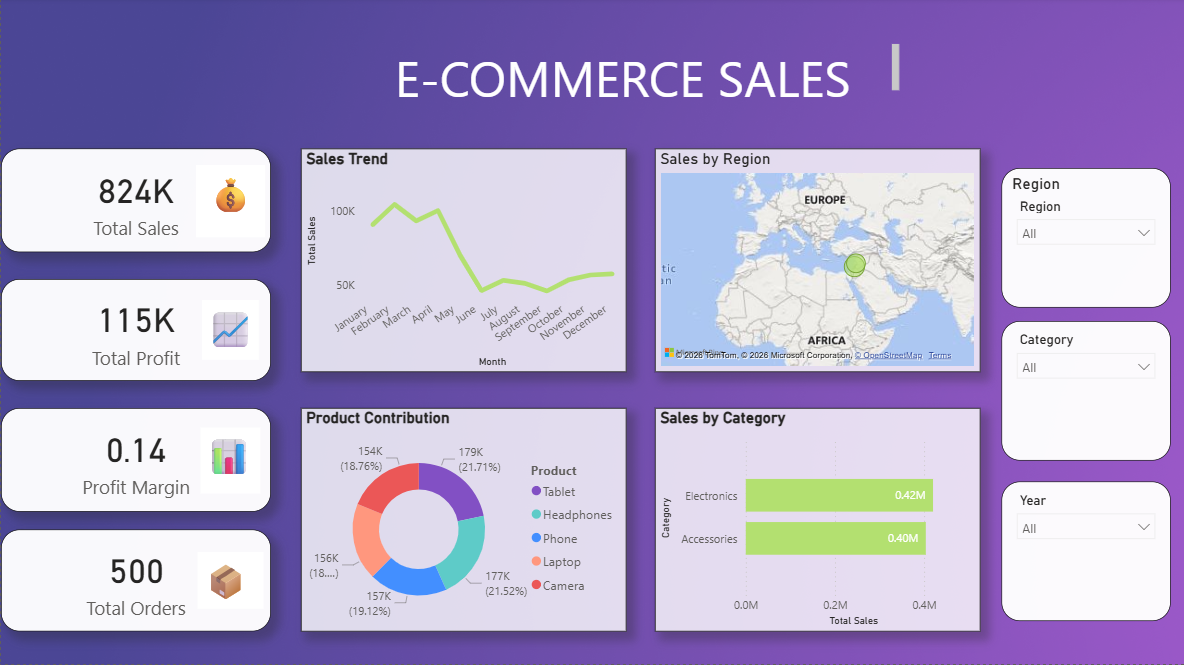

What the dashboard file says about the page in this screenshot:
{"tool":"powerbi","page":{"name":"Page 1","canvas":[1280,720],"ordinal":0},"visuals":[{"type":"card","fields":{"Values":["ecommerce_sales_dataset_v2.Profit Margin"]},"box":[0,443.7,291.5,111.7],"z":0},{"type":"card","fields":{"Values":["ecommerce_sales_dataset_v2.Total Orders"]},"box":[0,574.8,291.5,110.1],"z":1000},{"type":"card","fields":{"Values":["ecommerce_sales_dataset_v2.Total Profit"]},"box":[0,304.4,291.5,110.1],"z":2000},{"type":"card","fields":{"Values":["ecommerce_sales_dataset_v2.Total Sales"]},"box":[0,163.5,291.5,111.7],"z":3000},{"type":"lineChart","title":"Sales Trend","fields":{"Category":["ecommerce_sales_dataset_v2.Order Date.Variation.Date Hierarchy.Year","ecommerce_sales_dataset_v2.Order Date.Variation.Date Hierarchy.Quarter","ecommerce_sales_dataset_v2.Order Date.Variation.Date Hierarchy.Month","ecommerce_sales_dataset_v2.Order Date.Variation.Date Hierarchy.Day"],"Y":["ecommerce_sales_dataset_v2.Total Sales"]},"box":[323.8,163.5,351.4,241.3],"z":4000},{"type":"map","title":"Sales by Region","fields":{"Category":["ecommerce_sales_dataset_v2.Region"],"Size":["ecommerce_sales_dataset_v2.Total Sales"]},"box":[706,163.5,351.4,241.3],"z":5000},{"type":"clusteredBarChart","title":"Sales by Category","fields":{"Category":["ecommerce_sales_dataset_v2.Category"],"Y":["ecommerce_sales_dataset_v2.Total Sales"]},"box":[706,443.7,351.4,241.3],"z":6000},{"type":"donutChart","title":"Product Contribution","fields":{"Category":["ecommerce_sales_dataset_v2.Product"],"Y":["ecommerce_sales_dataset_v2.Total Sales"]},"box":[323.8,443.7,351.4,241.3],"z":7000},{"type":"textbox","box":[375.7,45.3,599.1,69.6],"z":8000},{"type":"textbox","box":[210.5,181.4,74.5,77.7],"z":9000},{"type":"textbox","box":[217,327.1,61.5,64.8],"z":10000},{"type":"textbox","box":[215.4,464.7,64.8,71.2],"z":11000},{"type":"textbox","box":[212.1,599.1,71.2,61.5],"z":12000},{"type":"slicer","title":"Region","fields":{"Values":["ecommerce_sales_dataset_v2.Region"]},"box":[1080,184.6,183,150.6],"z":12001},{"type":"slicer","fields":{"Values":["ecommerce_sales_dataset_v2.Category"]},"box":[1080,349.8,183,150.6],"z":12002},{"type":"slicer","fields":{"Values":["ecommerce_sales_dataset_v2.Year"]},"box":[1080,523,183,150.6],"z":12003}]}

Visuals, with their boxes in screenshot pixels (x1, y1, x2, y2), scaled from the page's 1280x720 canvas onto the 1184x665 screenshot:
card - ecommerce_sales_dataset_v2.Profit Margin: box=[0, 410, 270, 513]
card - ecommerce_sales_dataset_v2.Total Orders: box=[0, 531, 270, 633]
card - ecommerce_sales_dataset_v2.Total Profit: box=[0, 281, 270, 383]
card - ecommerce_sales_dataset_v2.Total Sales: box=[0, 151, 270, 254]
"Sales Trend" lineChart: box=[300, 151, 625, 374]
"Sales by Region" map: box=[653, 151, 978, 374]
"Sales by Category" clusteredBarChart: box=[653, 410, 978, 633]
"Product Contribution" donutChart: box=[300, 410, 625, 633]
textbox: box=[348, 42, 902, 106]
textbox: box=[195, 168, 264, 239]
textbox: box=[201, 302, 258, 362]
textbox: box=[199, 429, 259, 495]
textbox: box=[196, 553, 262, 610]
"Region" slicer: box=[999, 170, 1168, 310]
slicer - ecommerce_sales_dataset_v2.Category: box=[999, 323, 1168, 462]
slicer - ecommerce_sales_dataset_v2.Year: box=[999, 483, 1168, 622]
